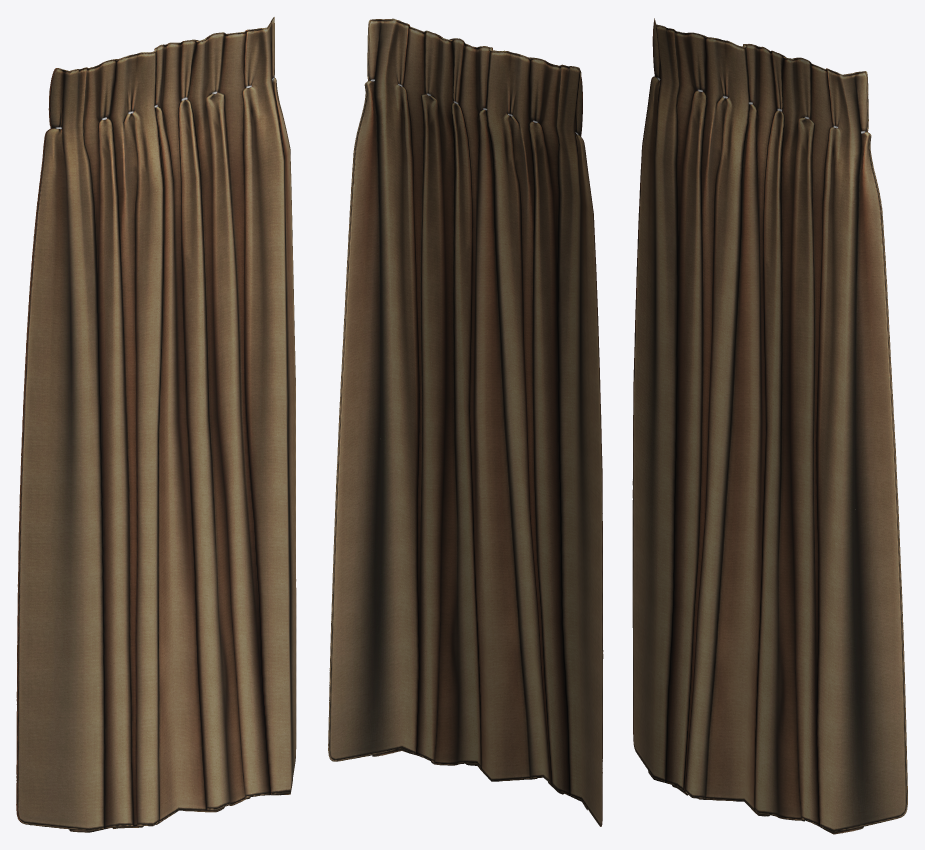
File: Curtain05.FBX
3 renders of one model, left to right at view 1: azimuth 30°, elevation 25°; view 2: azimuth 150°, elevation 25°; view 3: azimuth 330°, elevation 25°, orthographic.
Parts seen in each view (by area): view 1: Curtain05; view 2: Curtain05; view 3: Curtain05.
Boxes of the visible parts, left/top/right/bottom form: Curtain05: left=16, top=17, right=296, bottom=832; Curtain05: left=328, top=18, right=603, bottom=826; Curtain05: left=632, top=18, right=907, bottom=834.
Bounding box in the file's own units: 115 × 27.8 × 297.
